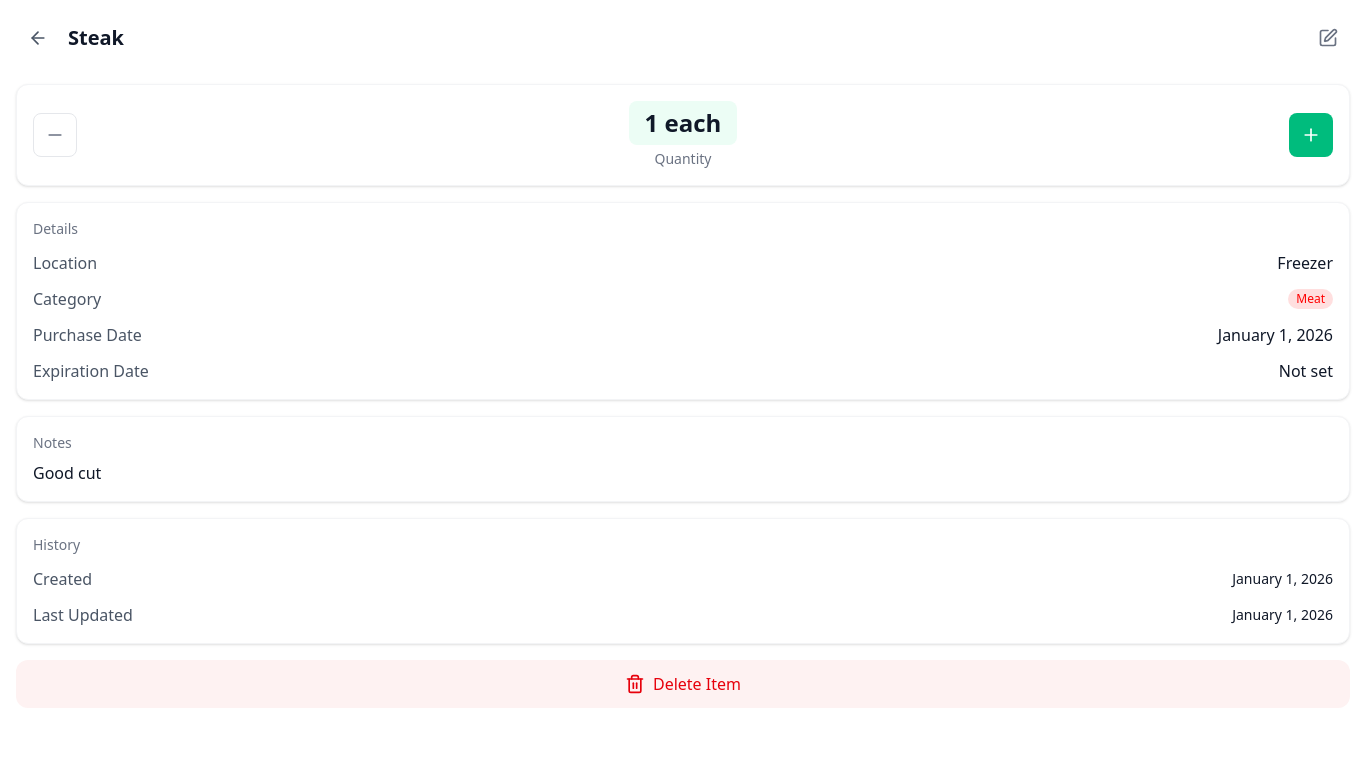
it: ItemDetailPage › shows pinned copy when decreasing from 1
Click the button named "Decrease quantity by 1".
click(55, 135)  # box [33,113,77,157]
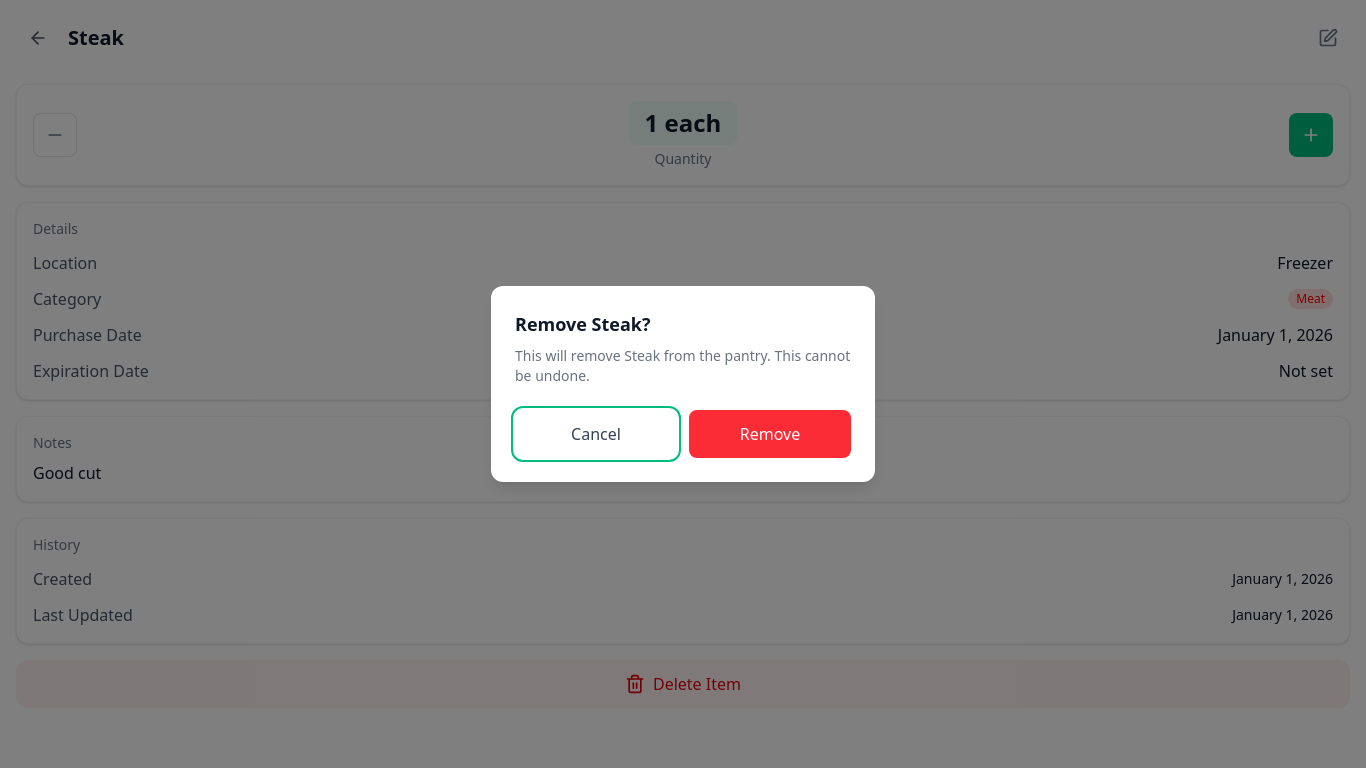
Expected: the button "1 each" is shown, [629,101,737,145]
Expected: the heading "Remove Steak?" is shown, [515,312,650,336]
Expected: the button "Remove" is shown, [689,410,851,458]
